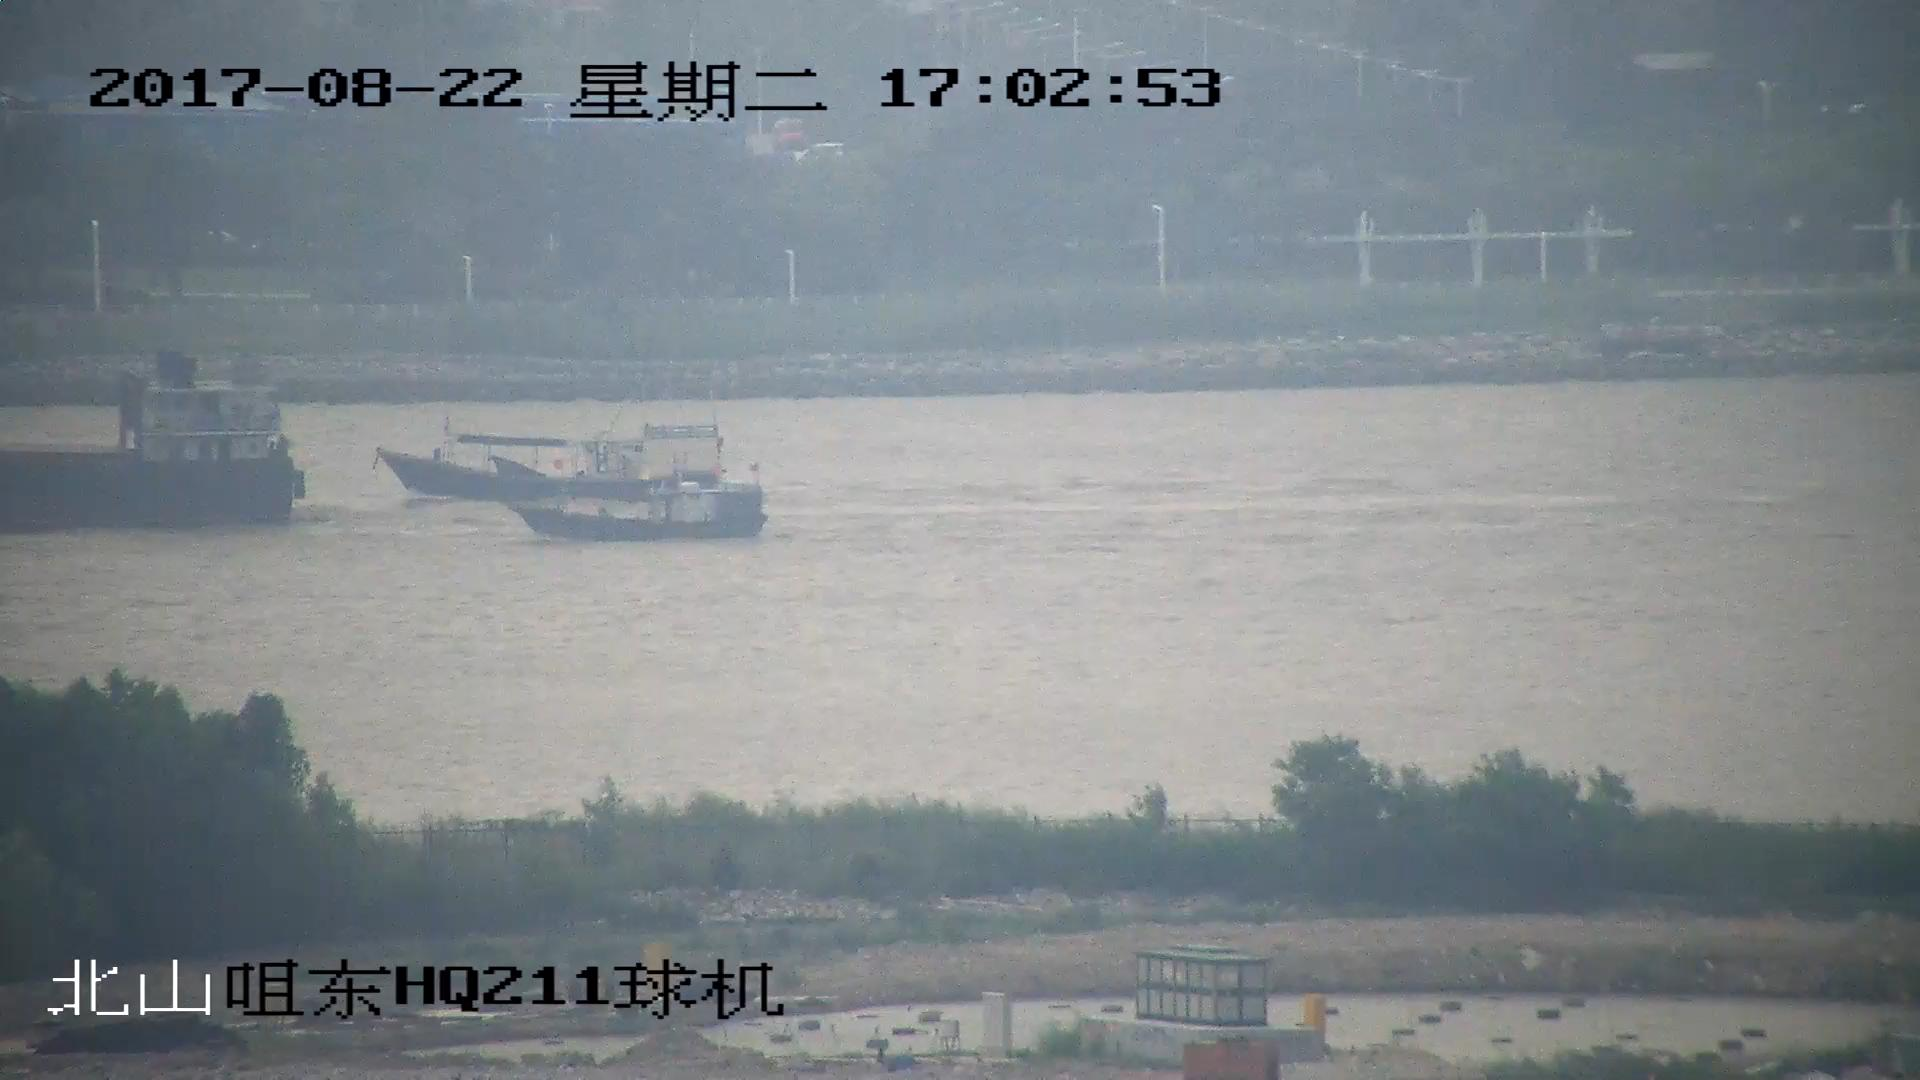fishing boat: (378, 422, 727, 503), (512, 480, 759, 541)
general cargo ship: (1, 376, 287, 530)
